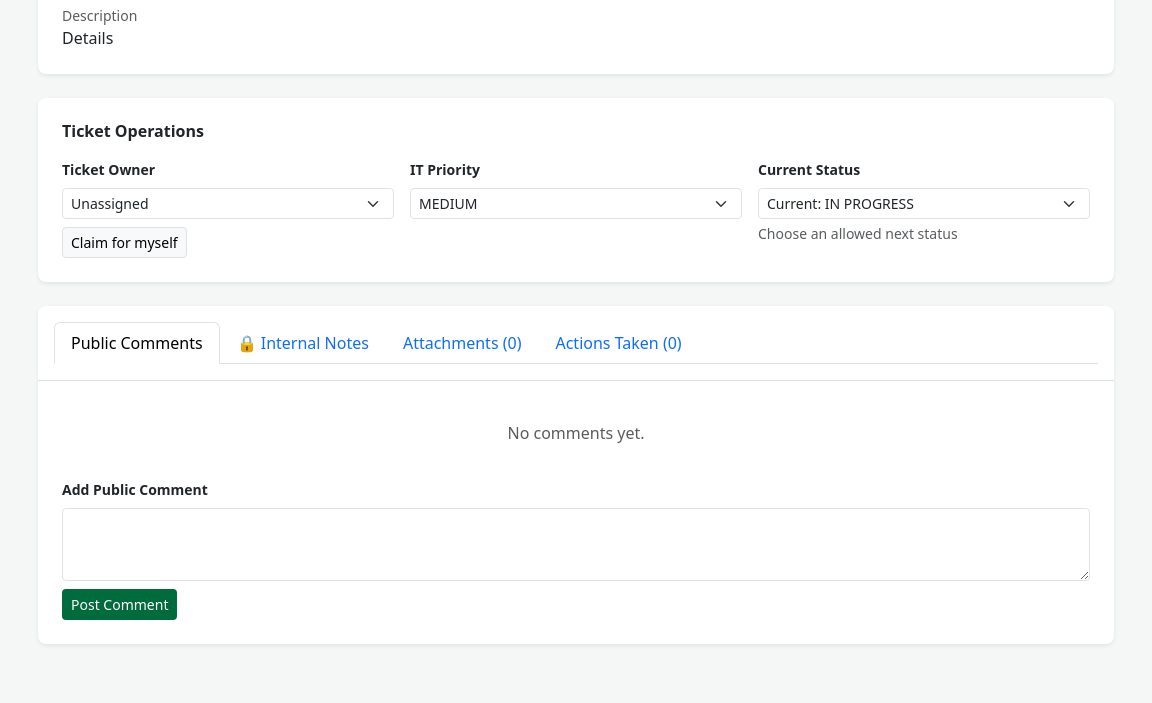
Test: Actions Taken staff UI › A11Y-01: form controls have labels and the validation is an alert
The width and height of the screenshot is (1152, 703).
(page scrolled)
Click the tab "Actions Taken (0)" at (619, 343), box [538,322,699,364]
(page scrolled)
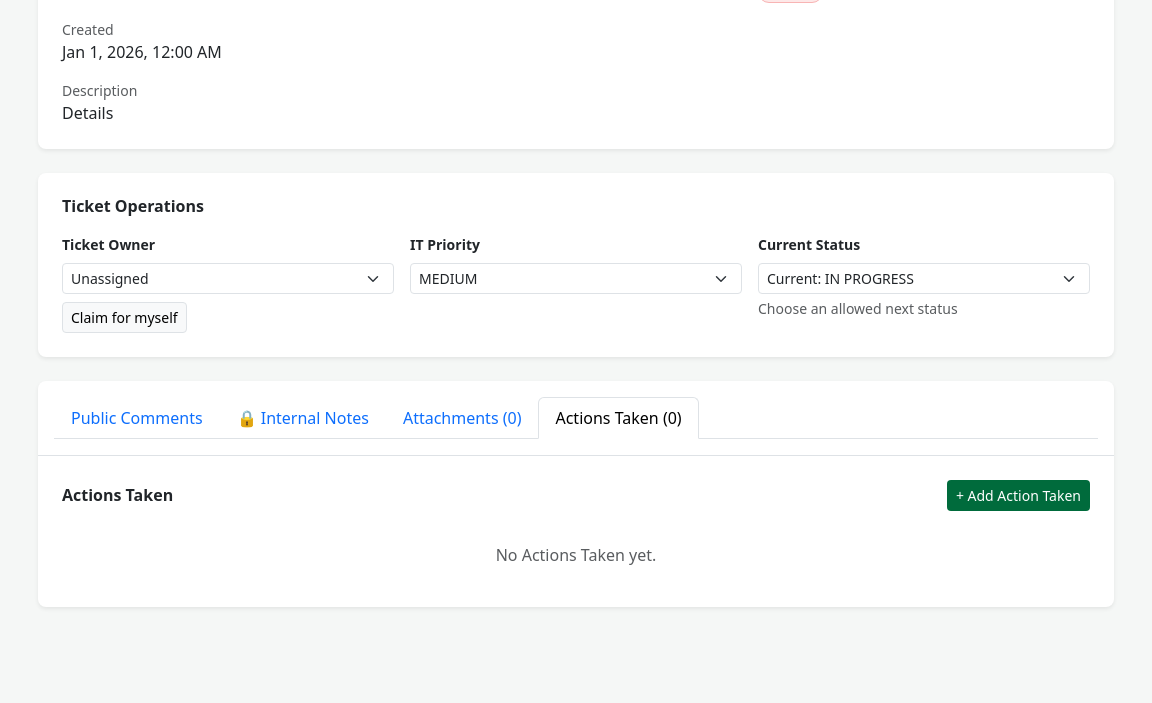
Click the button "+ Add Action Taken" at (1018, 496), box [947,480,1090,511]
(page scrolled)
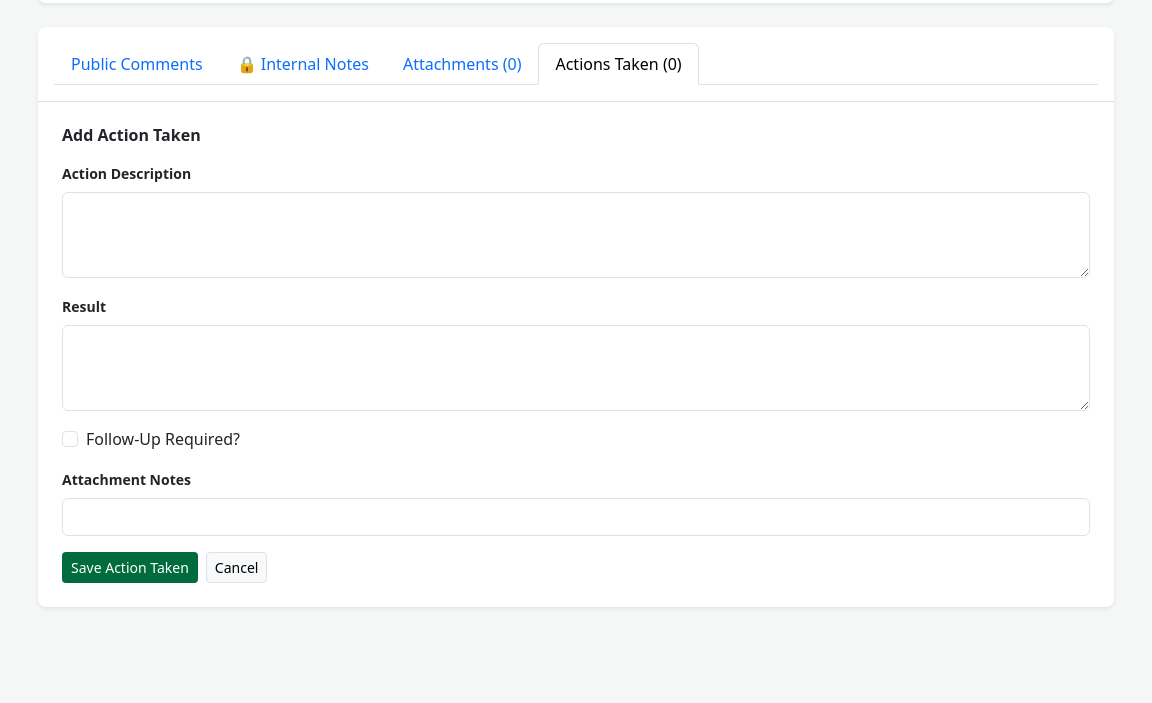
expect the text box labelled "Action Description" is shown: met, box [62,192,1090,278]
expect the text box labelled "Result" is shown: met, box [62,325,1090,411]
expect the checkbox labelled "Follow-Up Required?" is shown: met, box [62,431,78,447]
Click the button "Save Action Taken" at (130, 568), box [62,552,198,583]
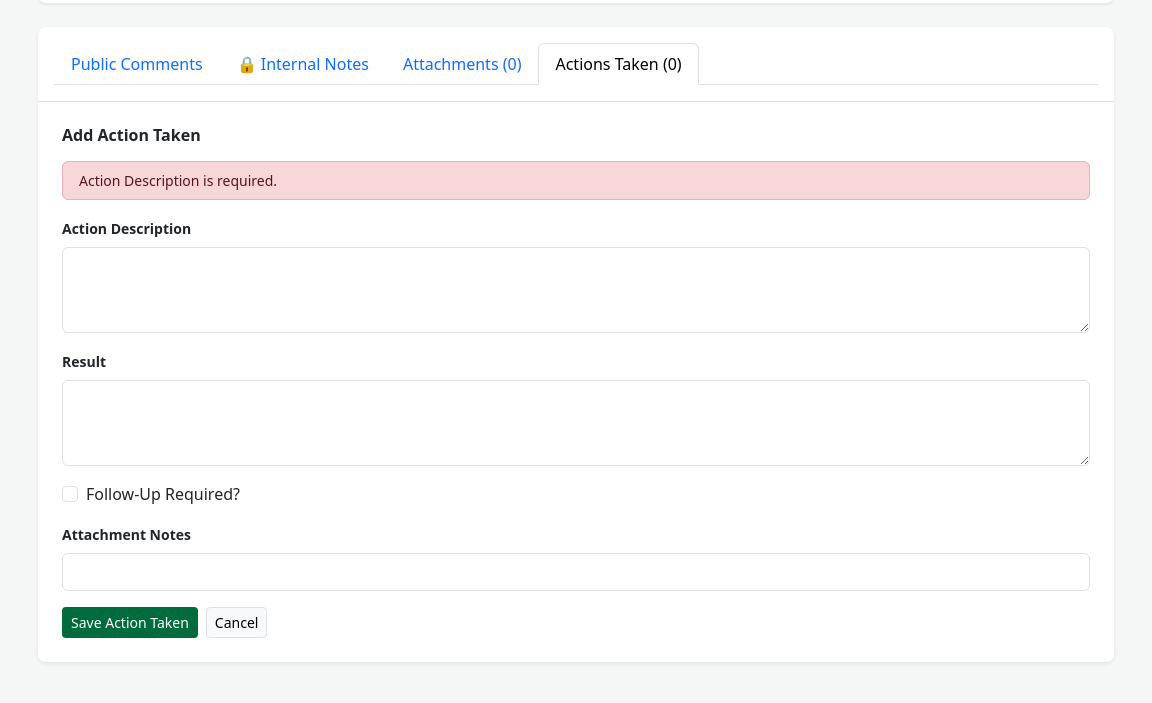
expect the message "Action Description is required." is shown: met, box [62,161,1090,200]
